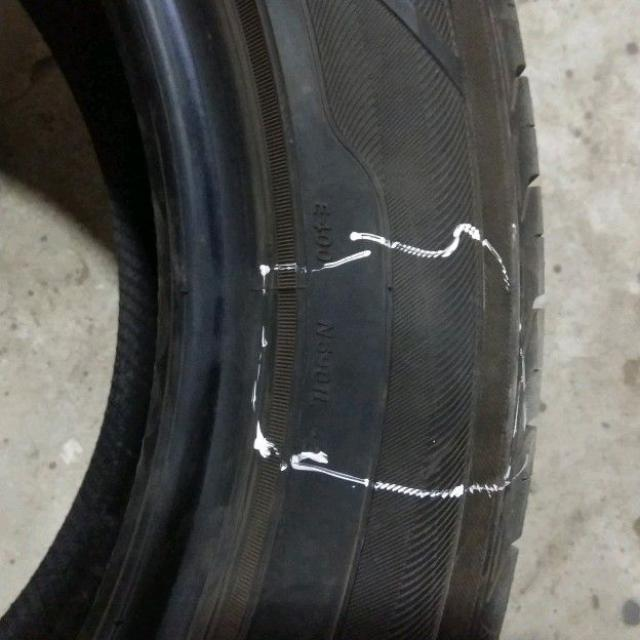Bulge: (329, 275, 478, 432)
